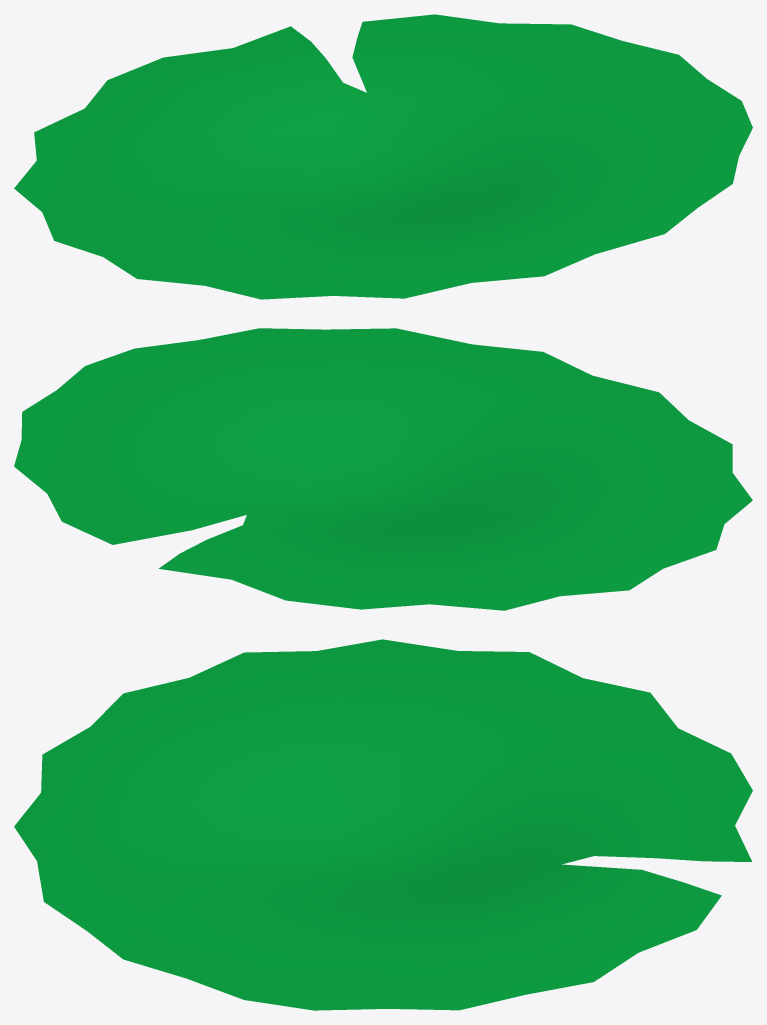
File: LousLeaf_01.fbx
3 renders of one model, top to bottom at view 1: azimuth 30°, elevation 25°; view 2: azimuth 150°, elevation 25°; view 3: azimuth 270°, elevation 25°, orthographic. The views are drawn at different scales.
Visible parts, largest first — view 1: LousLeaf_1; view 2: LousLeaf_1; view 3: LousLeaf_1.
Boxes of the visible parts, <box> form: LousLeaf_1: <box>14,14,752,299</box>; LousLeaf_1: <box>14,328,752,610</box>; LousLeaf_1: <box>14,639,752,1010</box>.
Size of the model in its own units: 3.99 by 0.1507 by 3.34.
